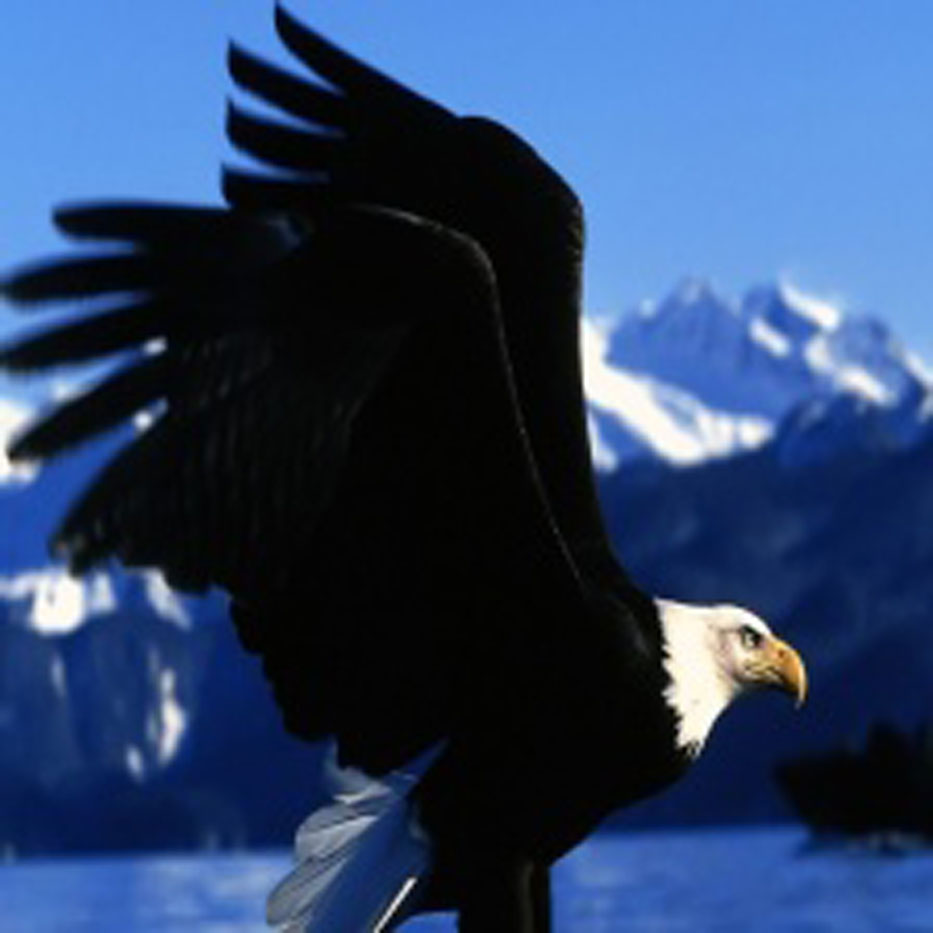Pengoyak Daging: (766, 623, 820, 713)
